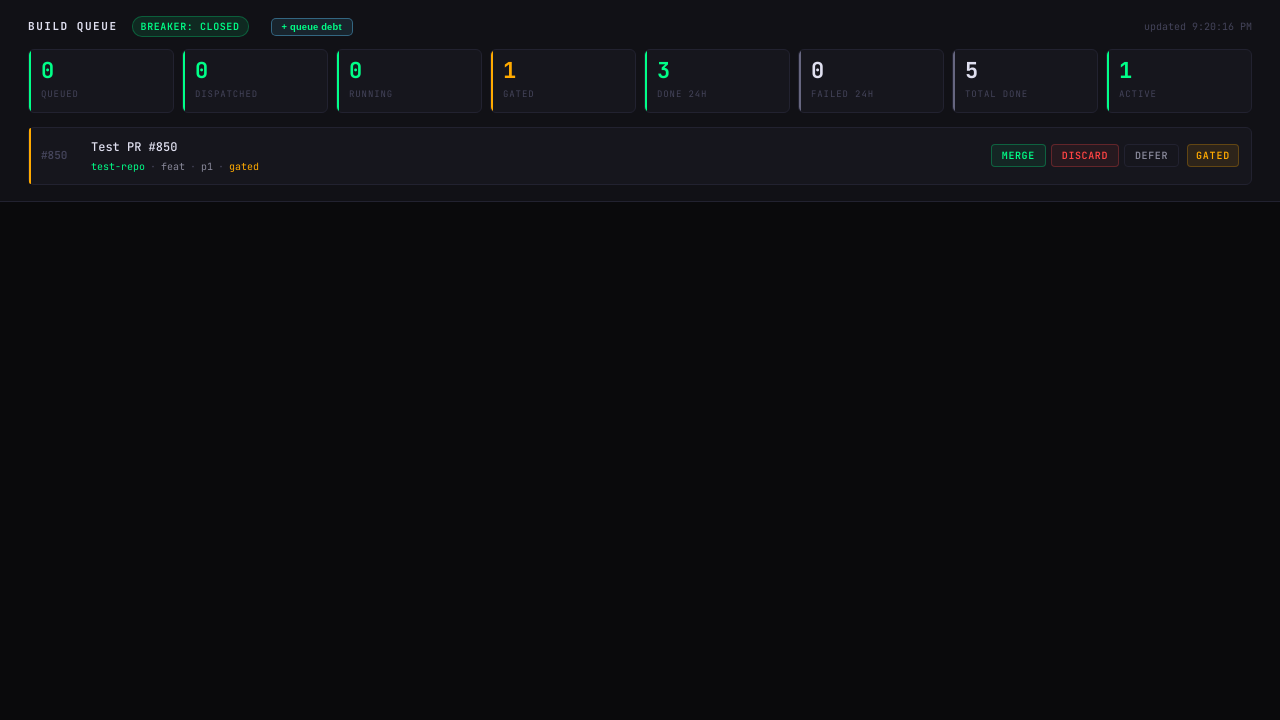
Scenario: QueuePanel — F spec scenarios › F1: 504 + HTML body → no raw body in DOM, row stays pending, poll yields confirmed toast
Click the button "Merge". click: (1018, 156)
box: [991, 144, 1046, 167]
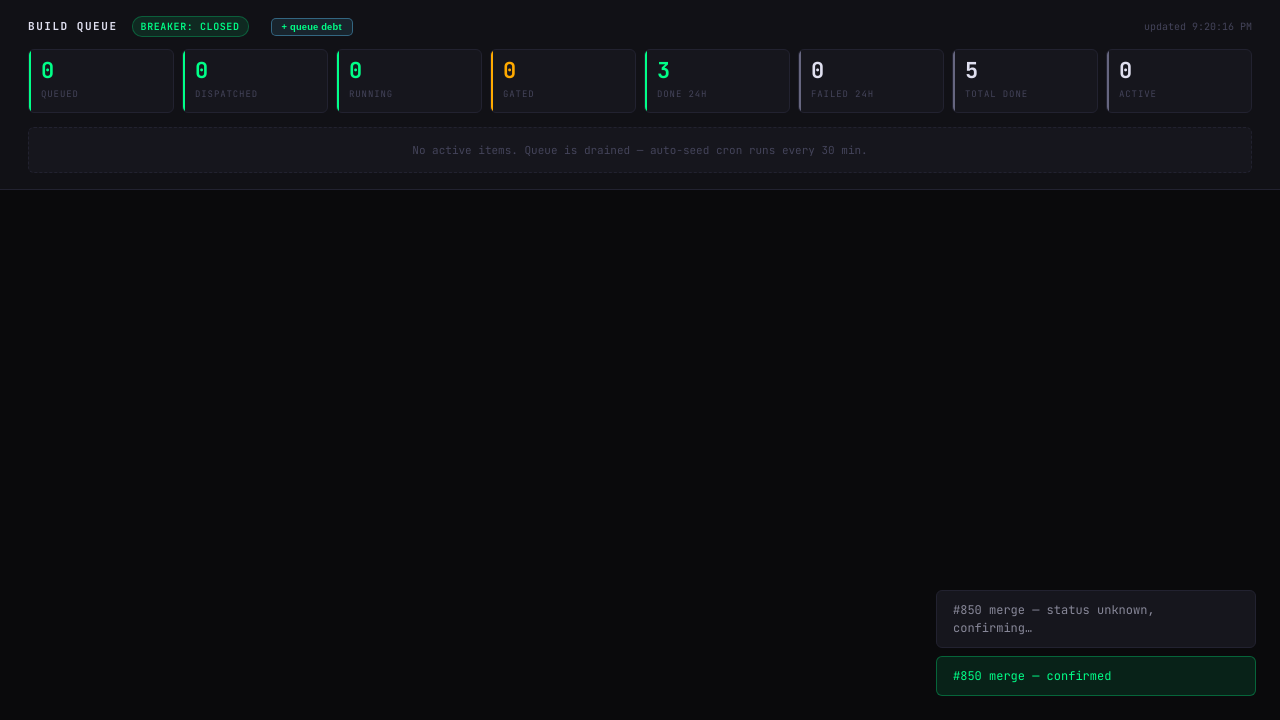
Expected: the text "#850 merge — status unknown, confirming…" is shown, [936, 590, 1256, 648]
Expected: the text "#850 merge — confirmed" is shown, [936, 656, 1256, 696]
